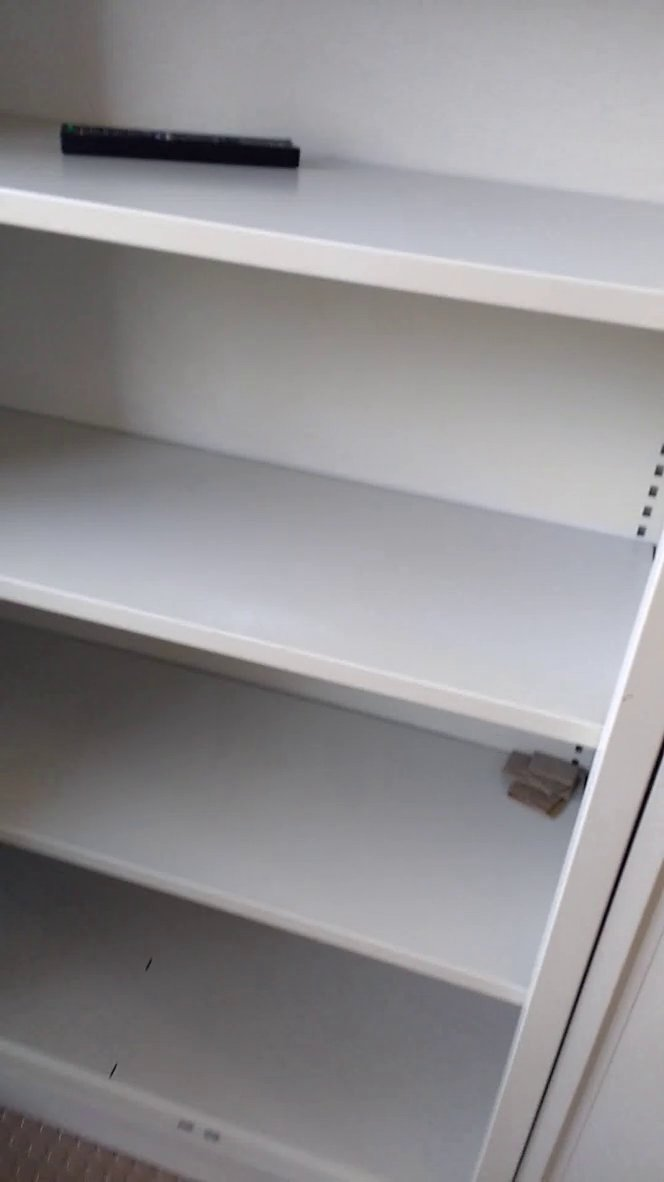remote: (48, 106, 310, 176)
